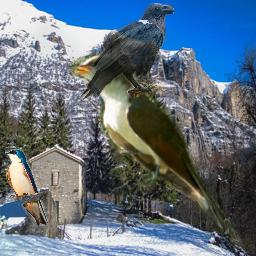Crow: (79, 3, 174, 100)
Cuckoo: (69, 50, 242, 249)
Swallow: (5, 149, 48, 226)
